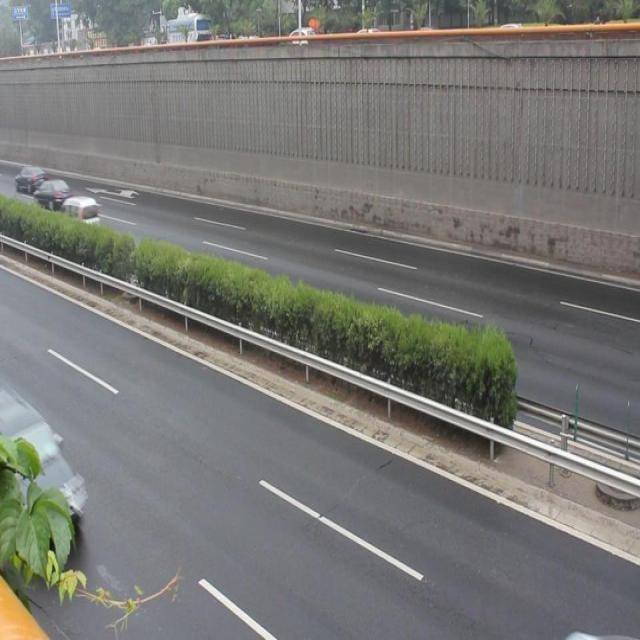car: (1, 392, 94, 554)
truck: (61, 189, 102, 233)
